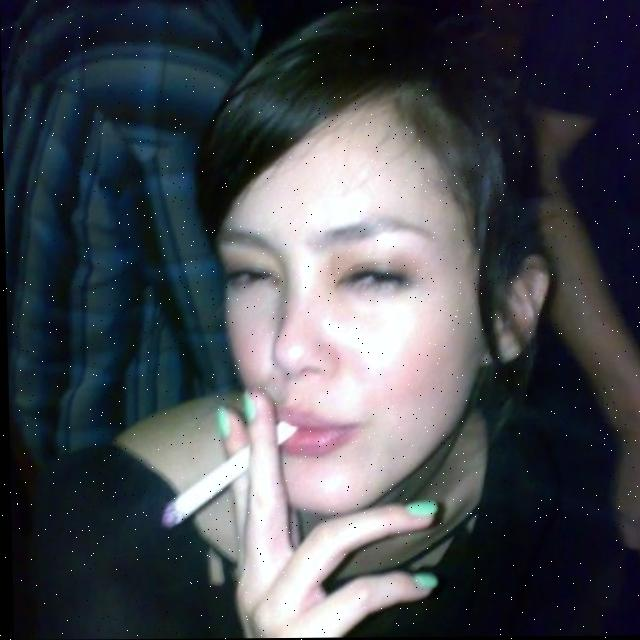cigarette: (156, 421, 300, 529)
